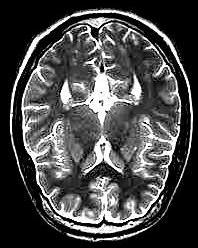Normal_Brain: (1, 8, 194, 248)
